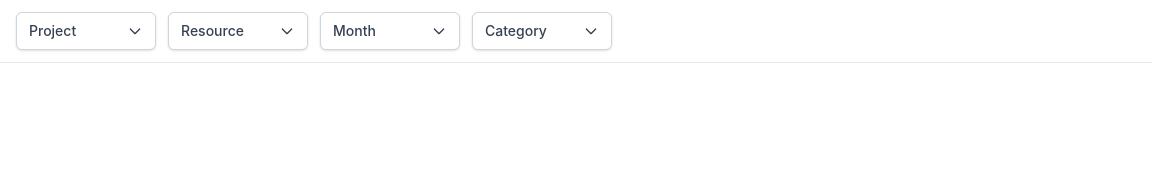
FilterBar › category dropdown › selects a category and shows filter chip
Open category dropdown
Click the button "Category". click: (542, 31)
box: [472,12,612,50]
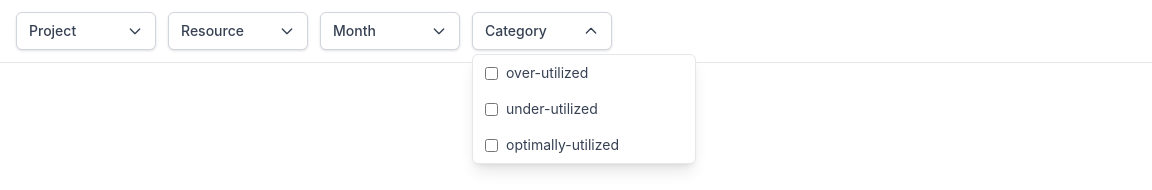
Click the checkbox labelled "over-utilized". click: (492, 73)
box: [485,66,498,80]
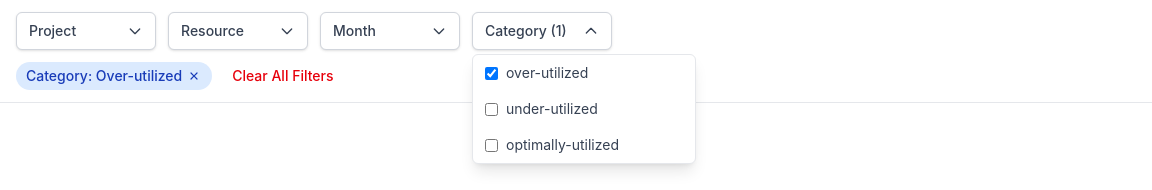
Now the element with test id "filter-chips" is shown, box [16,62,346,90]
Now the text "Category: Over-utilized" is shown, box [16,62,212,90]
